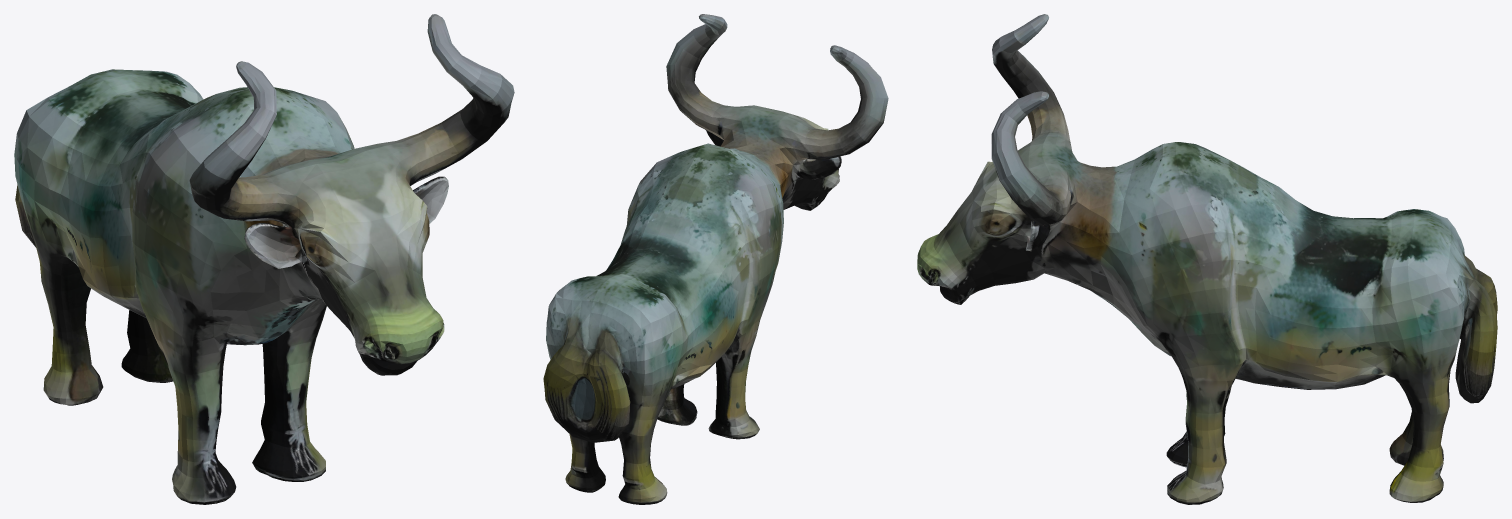
Rendered from tongniu.glb.
3 renders of one model, left to right at view 1: azimuth 30°, elevation 25°; view 2: azimuth 150°, elevation 25°; view 3: azimuth 270°, elevation 25°, orthographic. The views are drawn at different scales.
Visible parts, largest first — view 1: tripo_node_6ba6bbc5-bc42-498a-8a83-9de2628571b4; view 2: tripo_node_6ba6bbc5-bc42-498a-8a83-9de2628571b4; view 3: tripo_node_6ba6bbc5-bc42-498a-8a83-9de2628571b4.
Boxes of the visible parts, x1,y1,x2,y2 form: tripo_node_6ba6bbc5-bc42-498a-8a83-9de2628571b4: [14, 14, 514, 504]; tripo_node_6ba6bbc5-bc42-498a-8a83-9de2628571b4: [543, 14, 888, 504]; tripo_node_6ba6bbc5-bc42-498a-8a83-9de2628571b4: [917, 14, 1497, 504].
Bounding box in the file's own units: 0.5209 × 0.8076 × 0.9997.
Materials: 1 (1 with a texture image).
